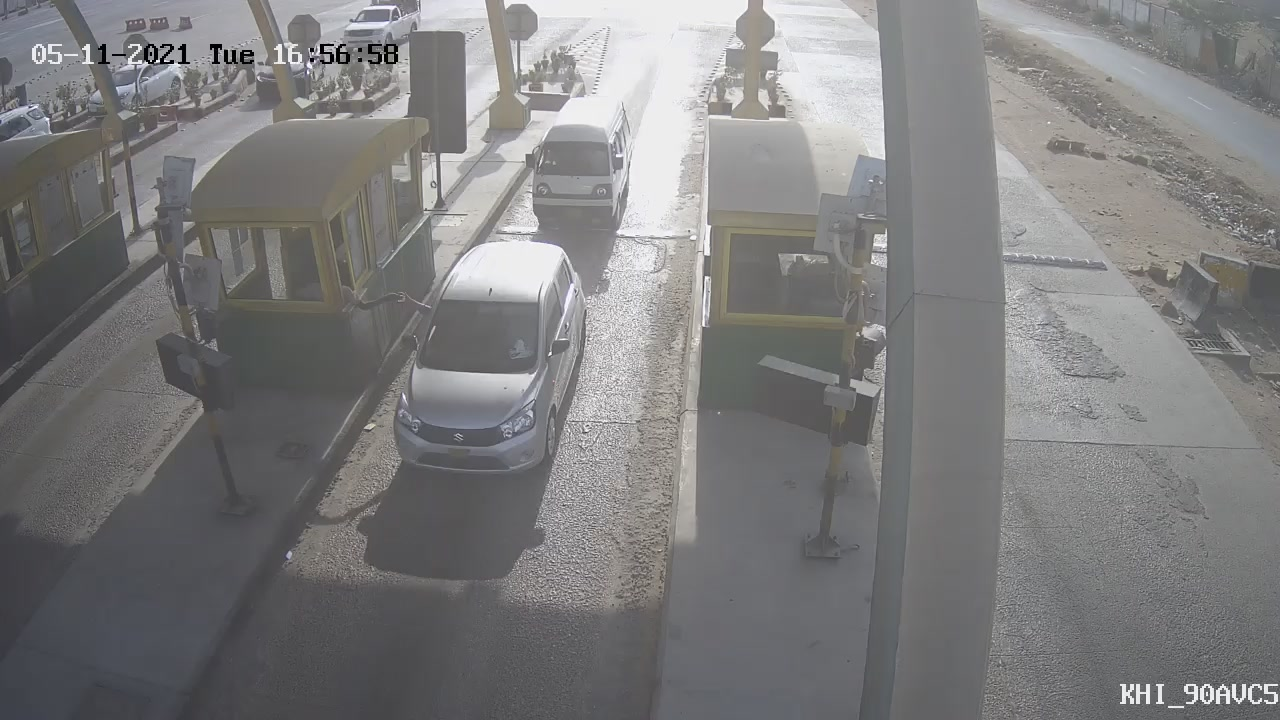F1: (366, 220, 603, 498), (507, 78, 650, 247)
